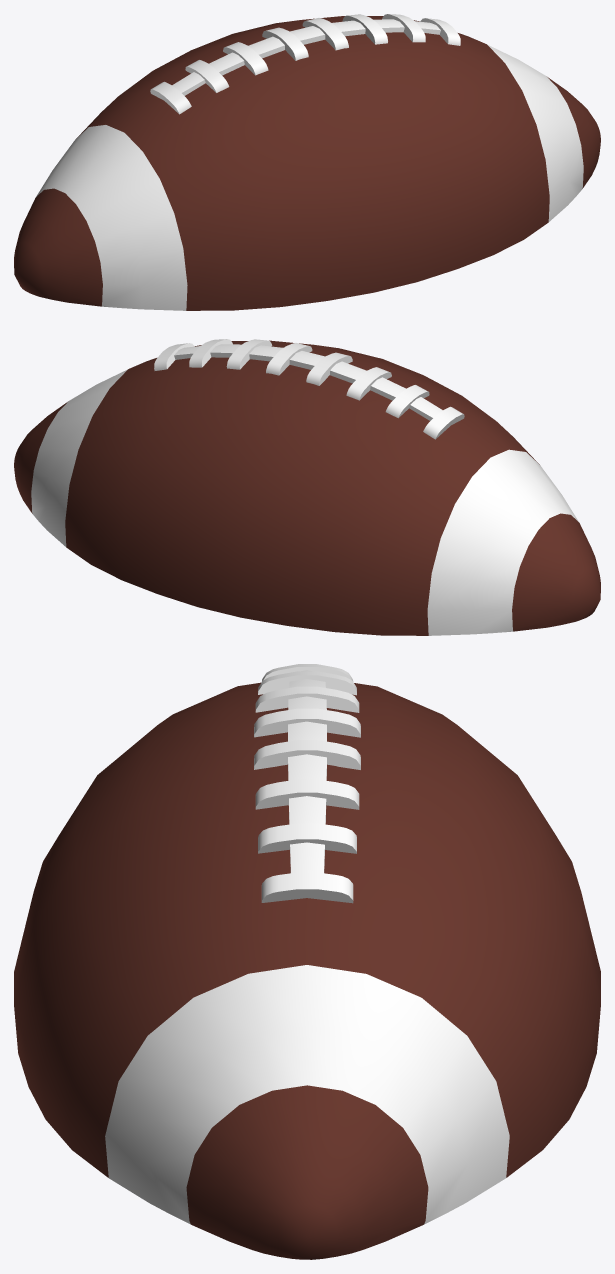
File: Cake_ThemeToys_A.FBX
The picture shows the model from 3 angles, top to bottom: view 1: azimuth 30°, elevation 25°; view 2: azimuth 150°, elevation 25°; view 3: azimuth 270°, elevation 25°; orthographic projection. The views are drawn at different scales.
Parts seen in each view (by area): view 1: Cake_ThemeToys_A; view 2: Cake_ThemeToys_A; view 3: Cake_ThemeToys_A.
Boxes of the visible parts, x1,y1,x2,y2 form: Cake_ThemeToys_A: [14, 14, 600, 310]; Cake_ThemeToys_A: [14, 339, 600, 635]; Cake_ThemeToys_A: [14, 664, 600, 1259].
Bounding box in the file's own units: 114406 × 35819 × 62069.
